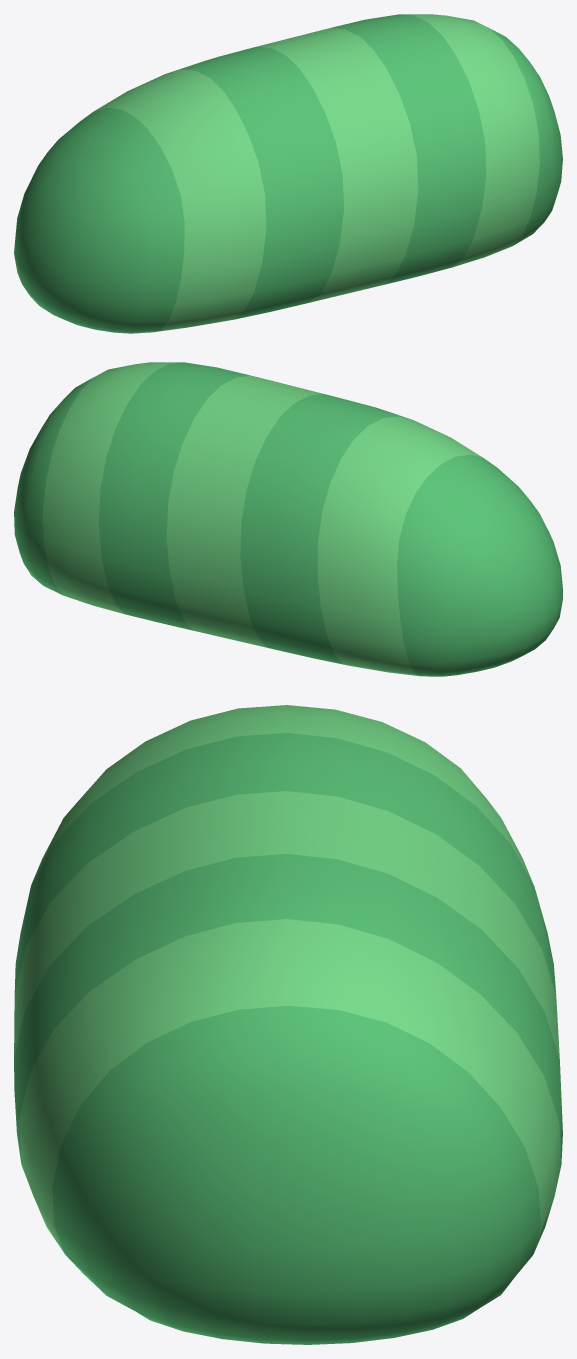
Rendered from Bush_E_03.fbx.
3 views of the same model, one above another, from view 1: azimuth 30°, elevation 25°; view 2: azimuth 150°, elevation 25°; view 3: azimuth 270°, elevation 25° (orthographic). The views are drawn at different scales.
Visible parts, largest first — view 1: Bush_E_03_LOD0; view 2: Bush_E_03_LOD0; view 3: Bush_E_03_LOD0.
Boxes of the visible parts, box(x1,y1,x2,y2) form: Bush_E_03_LOD0: box(14, 14, 562, 333); Bush_E_03_LOD0: box(14, 362, 562, 676); Bush_E_03_LOD0: box(14, 705, 562, 1344).
Size of what is drawn, in the model's own units: 860 by 332 by 448.
